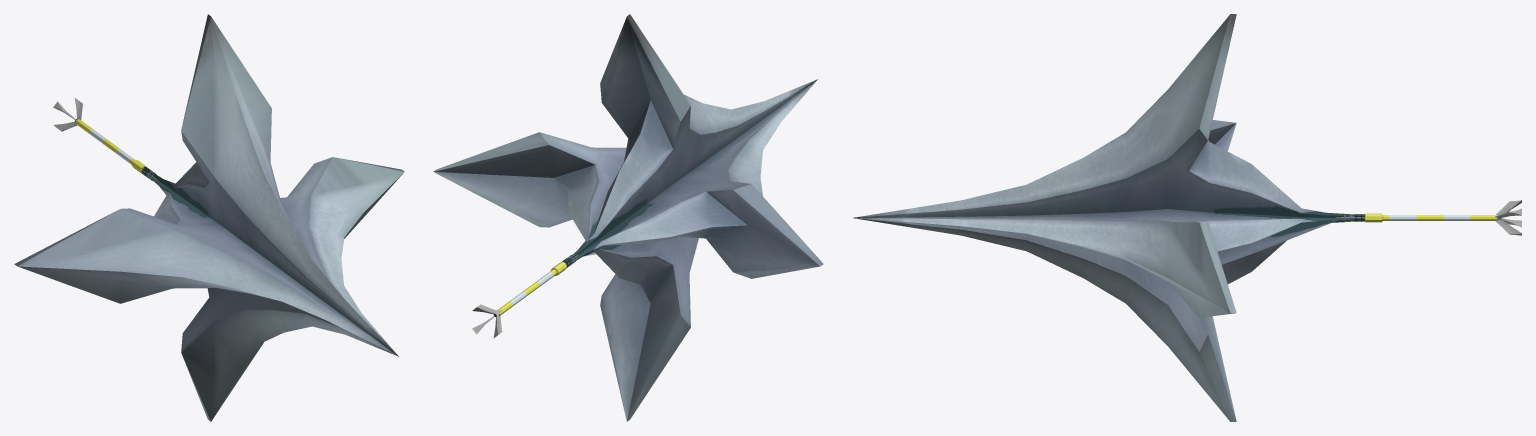
The model's file is Arrow_L.fbx.
The picture shows the model from 3 angles, left to right: view 1: azimuth 30°, elevation 25°; view 2: azimuth 150°, elevation 25°; view 3: azimuth 270°, elevation 25°; orthographic projection.
Visible parts, largest first — view 1: Arrow_L; view 2: Arrow_L; view 3: Arrow_L.
Part boxes in pixels (x1,y1,x2,y2): Arrow_L: (14, 14, 404, 421); Arrow_L: (433, 14, 823, 421); Arrow_L: (853, 14, 1521, 421).
Bounding box in the file's own units: 794 × 794 × 1182.
Materials: 1 (1 with a texture image).
